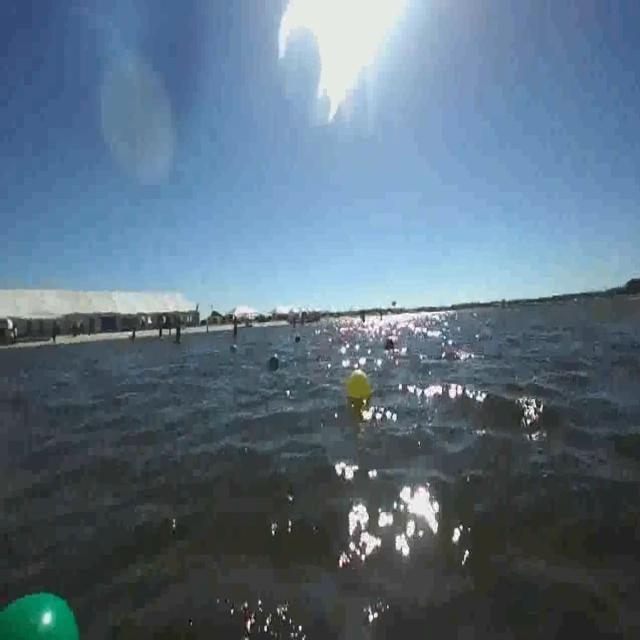green-buoy: (0, 582, 96, 640)
yellow-buoy: (346, 368, 372, 402)
